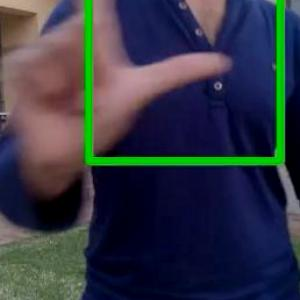land_hand: (0, 0, 239, 179)
